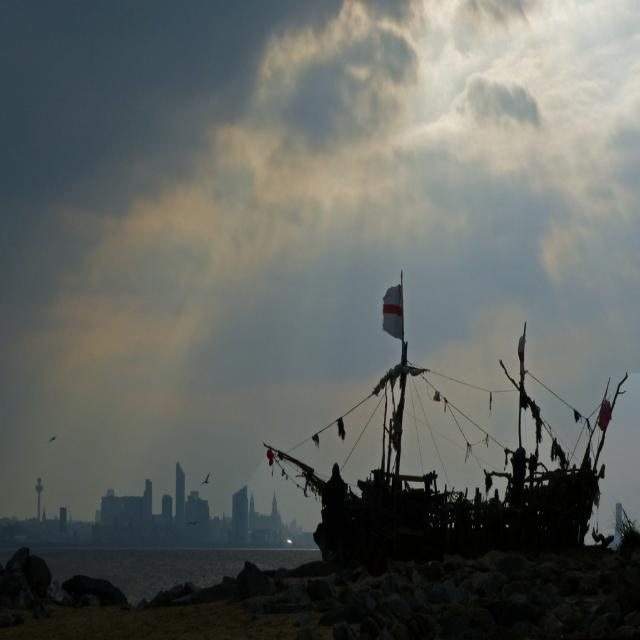Boat: (266, 287, 554, 542)
